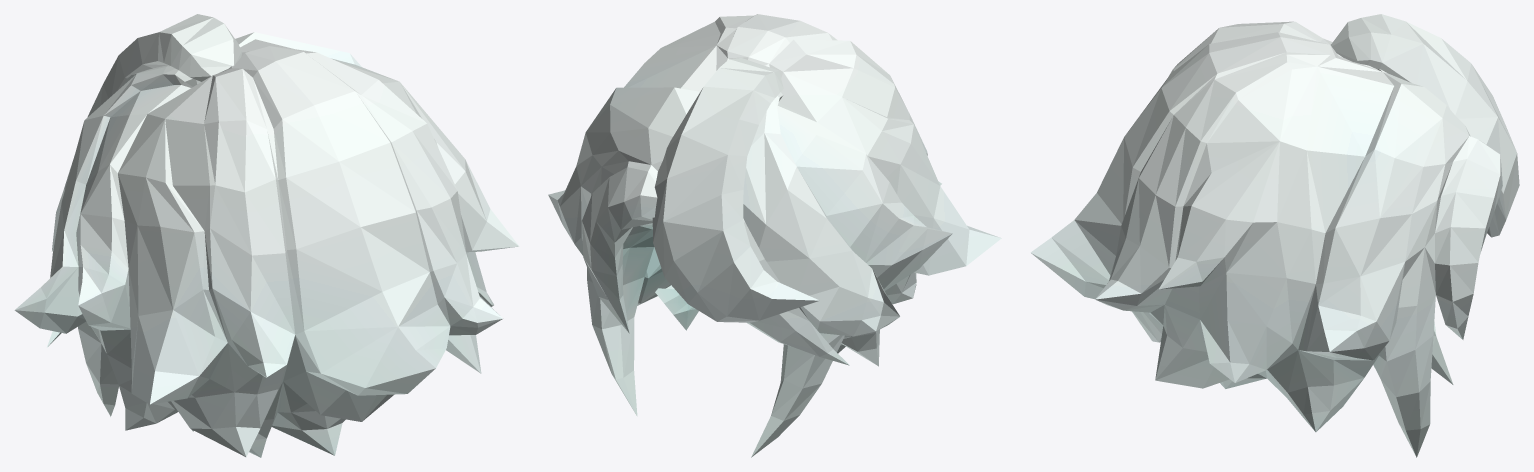
Rendered from CharSkyKid_Hair_MischiefCat.glb.
The picture shows the model from 3 angles, left to right: view 1: azimuth 30°, elevation 25°; view 2: azimuth 150°, elevation 25°; view 3: azimuth 270°, elevation 25°; orthographic projection. The views are drawn at different scales.
Parts seen in each view (by area): view 1: CharSkyKid_Hair_MischiefCat; view 2: CharSkyKid_Hair_MischiefCat; view 3: CharSkyKid_Hair_MischiefCat.
Boxes of the visible parts, <box> form: CharSkyKid_Hair_MischiefCat: <box>14,14,519,457</box>; CharSkyKid_Hair_MischiefCat: <box>548,14,1001,457</box>; CharSkyKid_Hair_MischiefCat: <box>1030,14,1519,457</box>.
Size of the model in its own units: 3.76 by 3.43 by 3.92.
1 material, 1 textured.
